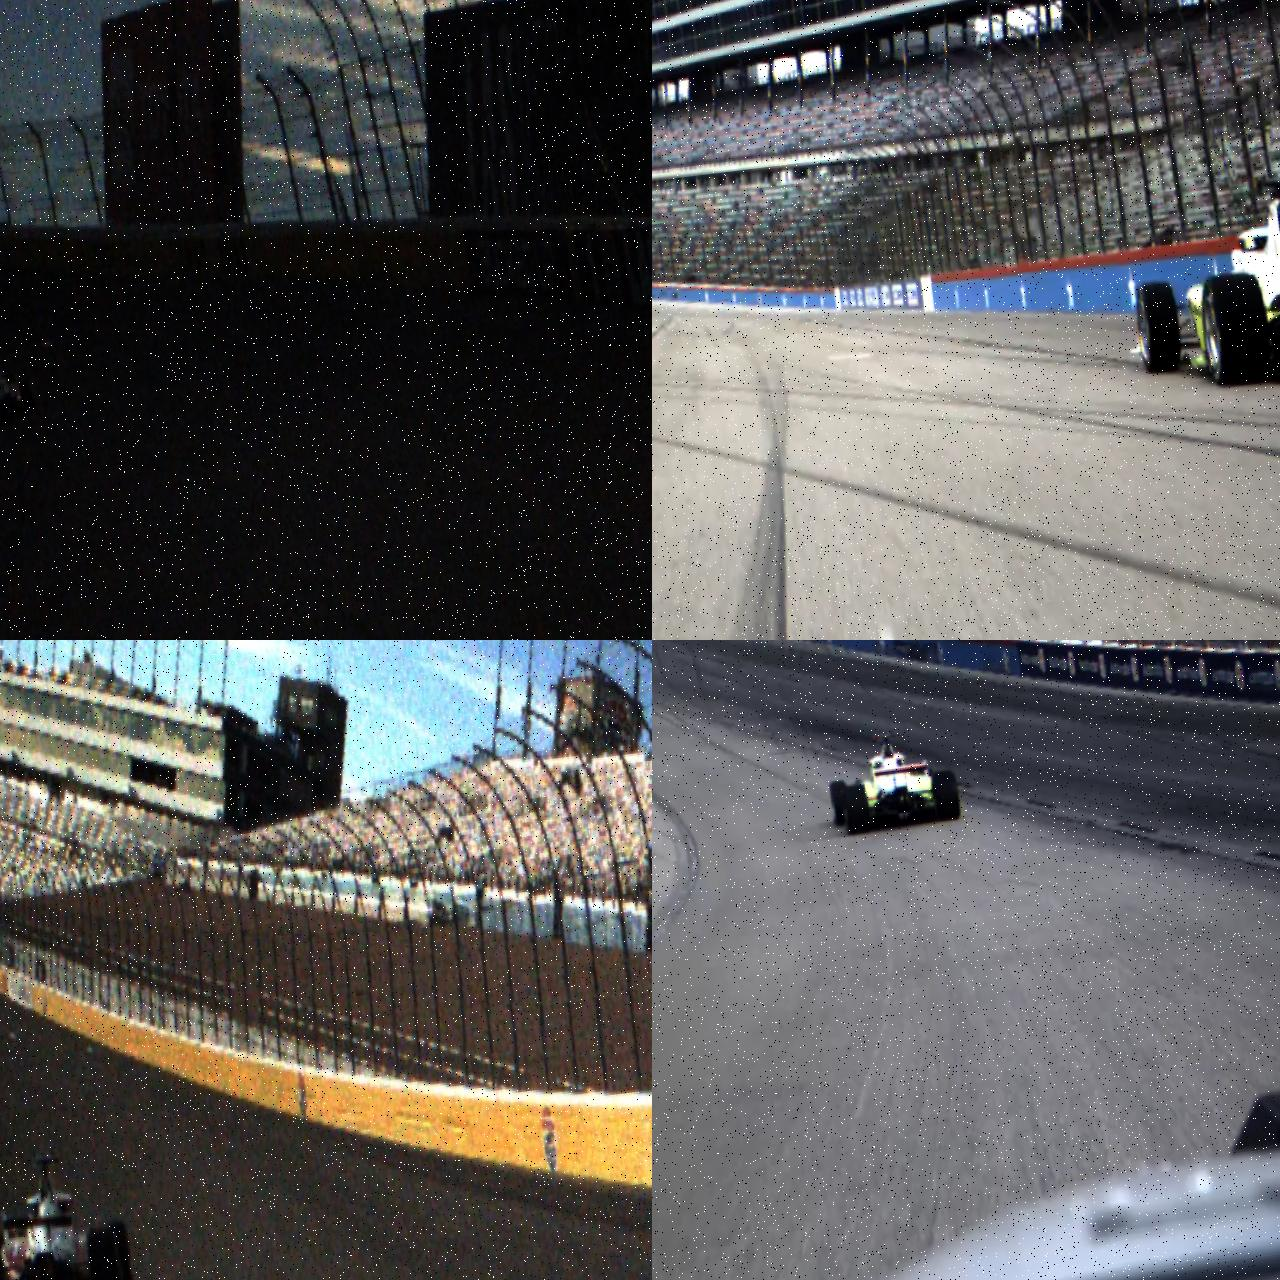AV: (1110, 161, 1280, 399), (0, 1141, 136, 1280), (824, 723, 962, 837), (0, 352, 36, 431)
Wheel: (1198, 271, 1274, 390), (1131, 279, 1185, 376), (86, 1224, 128, 1280), (105, 1218, 134, 1280), (842, 783, 872, 836), (933, 769, 961, 822), (830, 779, 851, 828), (20, 384, 35, 420)
